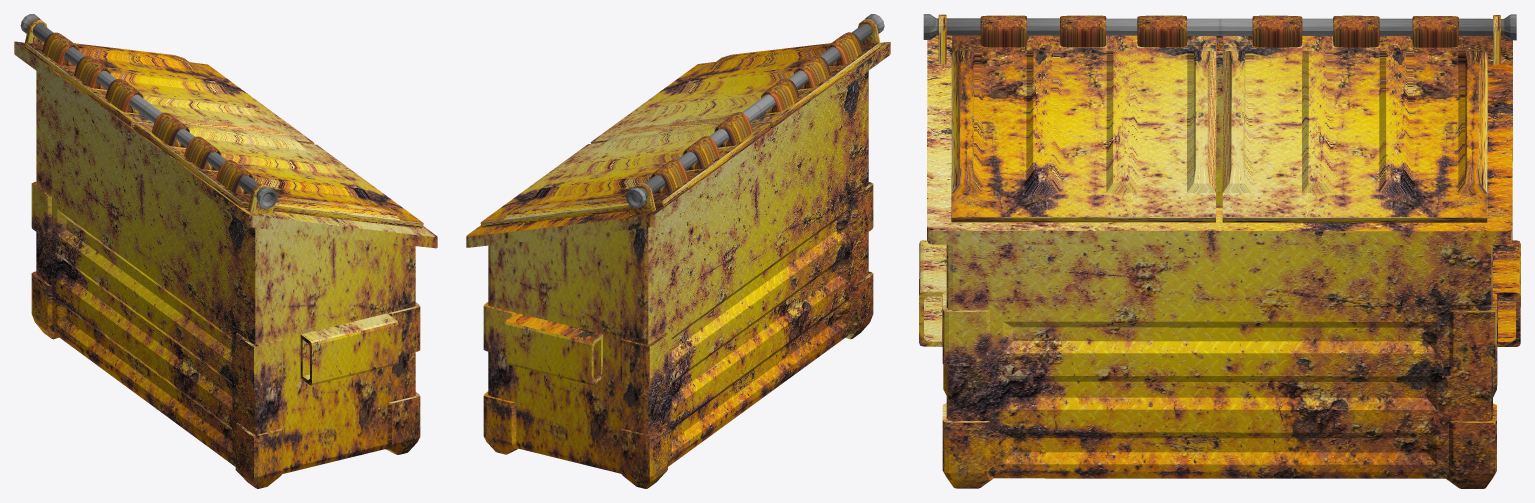
File: carro.obj
3 renders of one model, left to right at view 1: azimuth 30°, elevation 25°; view 2: azimuth 150°, elevation 25°; view 3: azimuth 270°, elevation 25°, orthographic. The views are drawn at different scales.
Visible parts, largest first — view 1: Box001, Box003, Box002, Cylinder02; view 2: Box001, Box002, Box003, Cylinder02; view 3: Box001, Box003, Box002, Cylinder02.
Part boxes in pixels (left/top/right/bottom): Box001: left=14, top=41, right=437, bottom=488; Box003: left=133, top=112, right=423, bottom=228; Box002: left=24, top=32, right=314, bottom=144; Cylinder02: left=20, top=14, right=277, bottom=208; Box001: left=466, top=42, right=890, bottom=488; Box002: left=480, top=112, right=770, bottom=227; Box003: left=590, top=32, right=880, bottom=143; Cylinder02: left=625, top=14, right=884, bottom=208; Box001: left=919, top=35, right=1520, bottom=488; Box003: left=951, top=15, right=1216, bottom=222; Box002: left=1222, top=15, right=1487, bottom=222; Cylinder02: left=923, top=14, right=1516, bottom=40.
Bounding box in the file's own units: 34.15 × 52.81 × 75.48.
2 materials, 2 textured.
